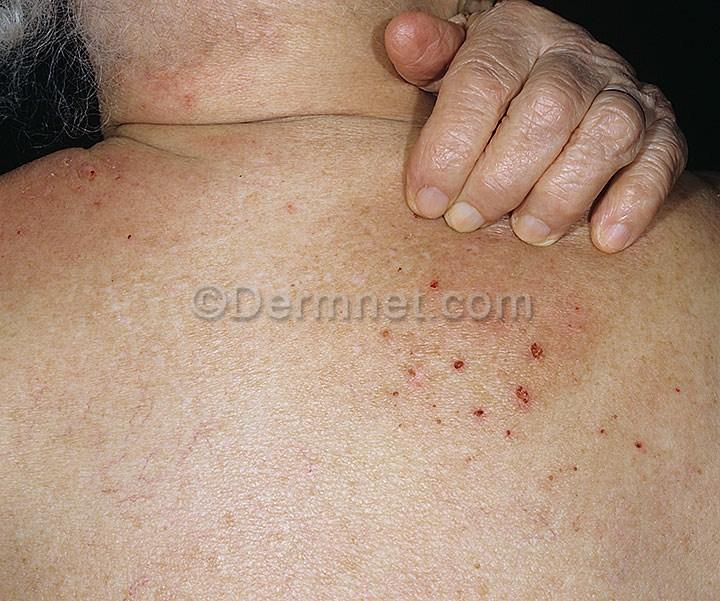Eczema: (367, 328, 600, 472), (2, 173, 203, 268), (87, 20, 221, 135), (384, 216, 554, 293), (222, 119, 327, 237), (611, 407, 685, 487)
